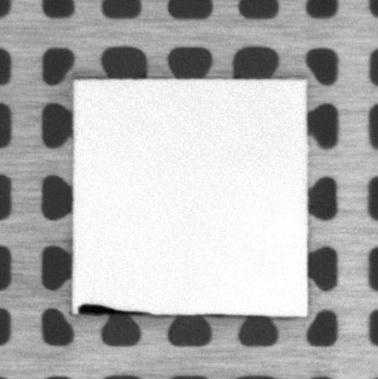DIE_BROKEN: (76, 303, 144, 315)
